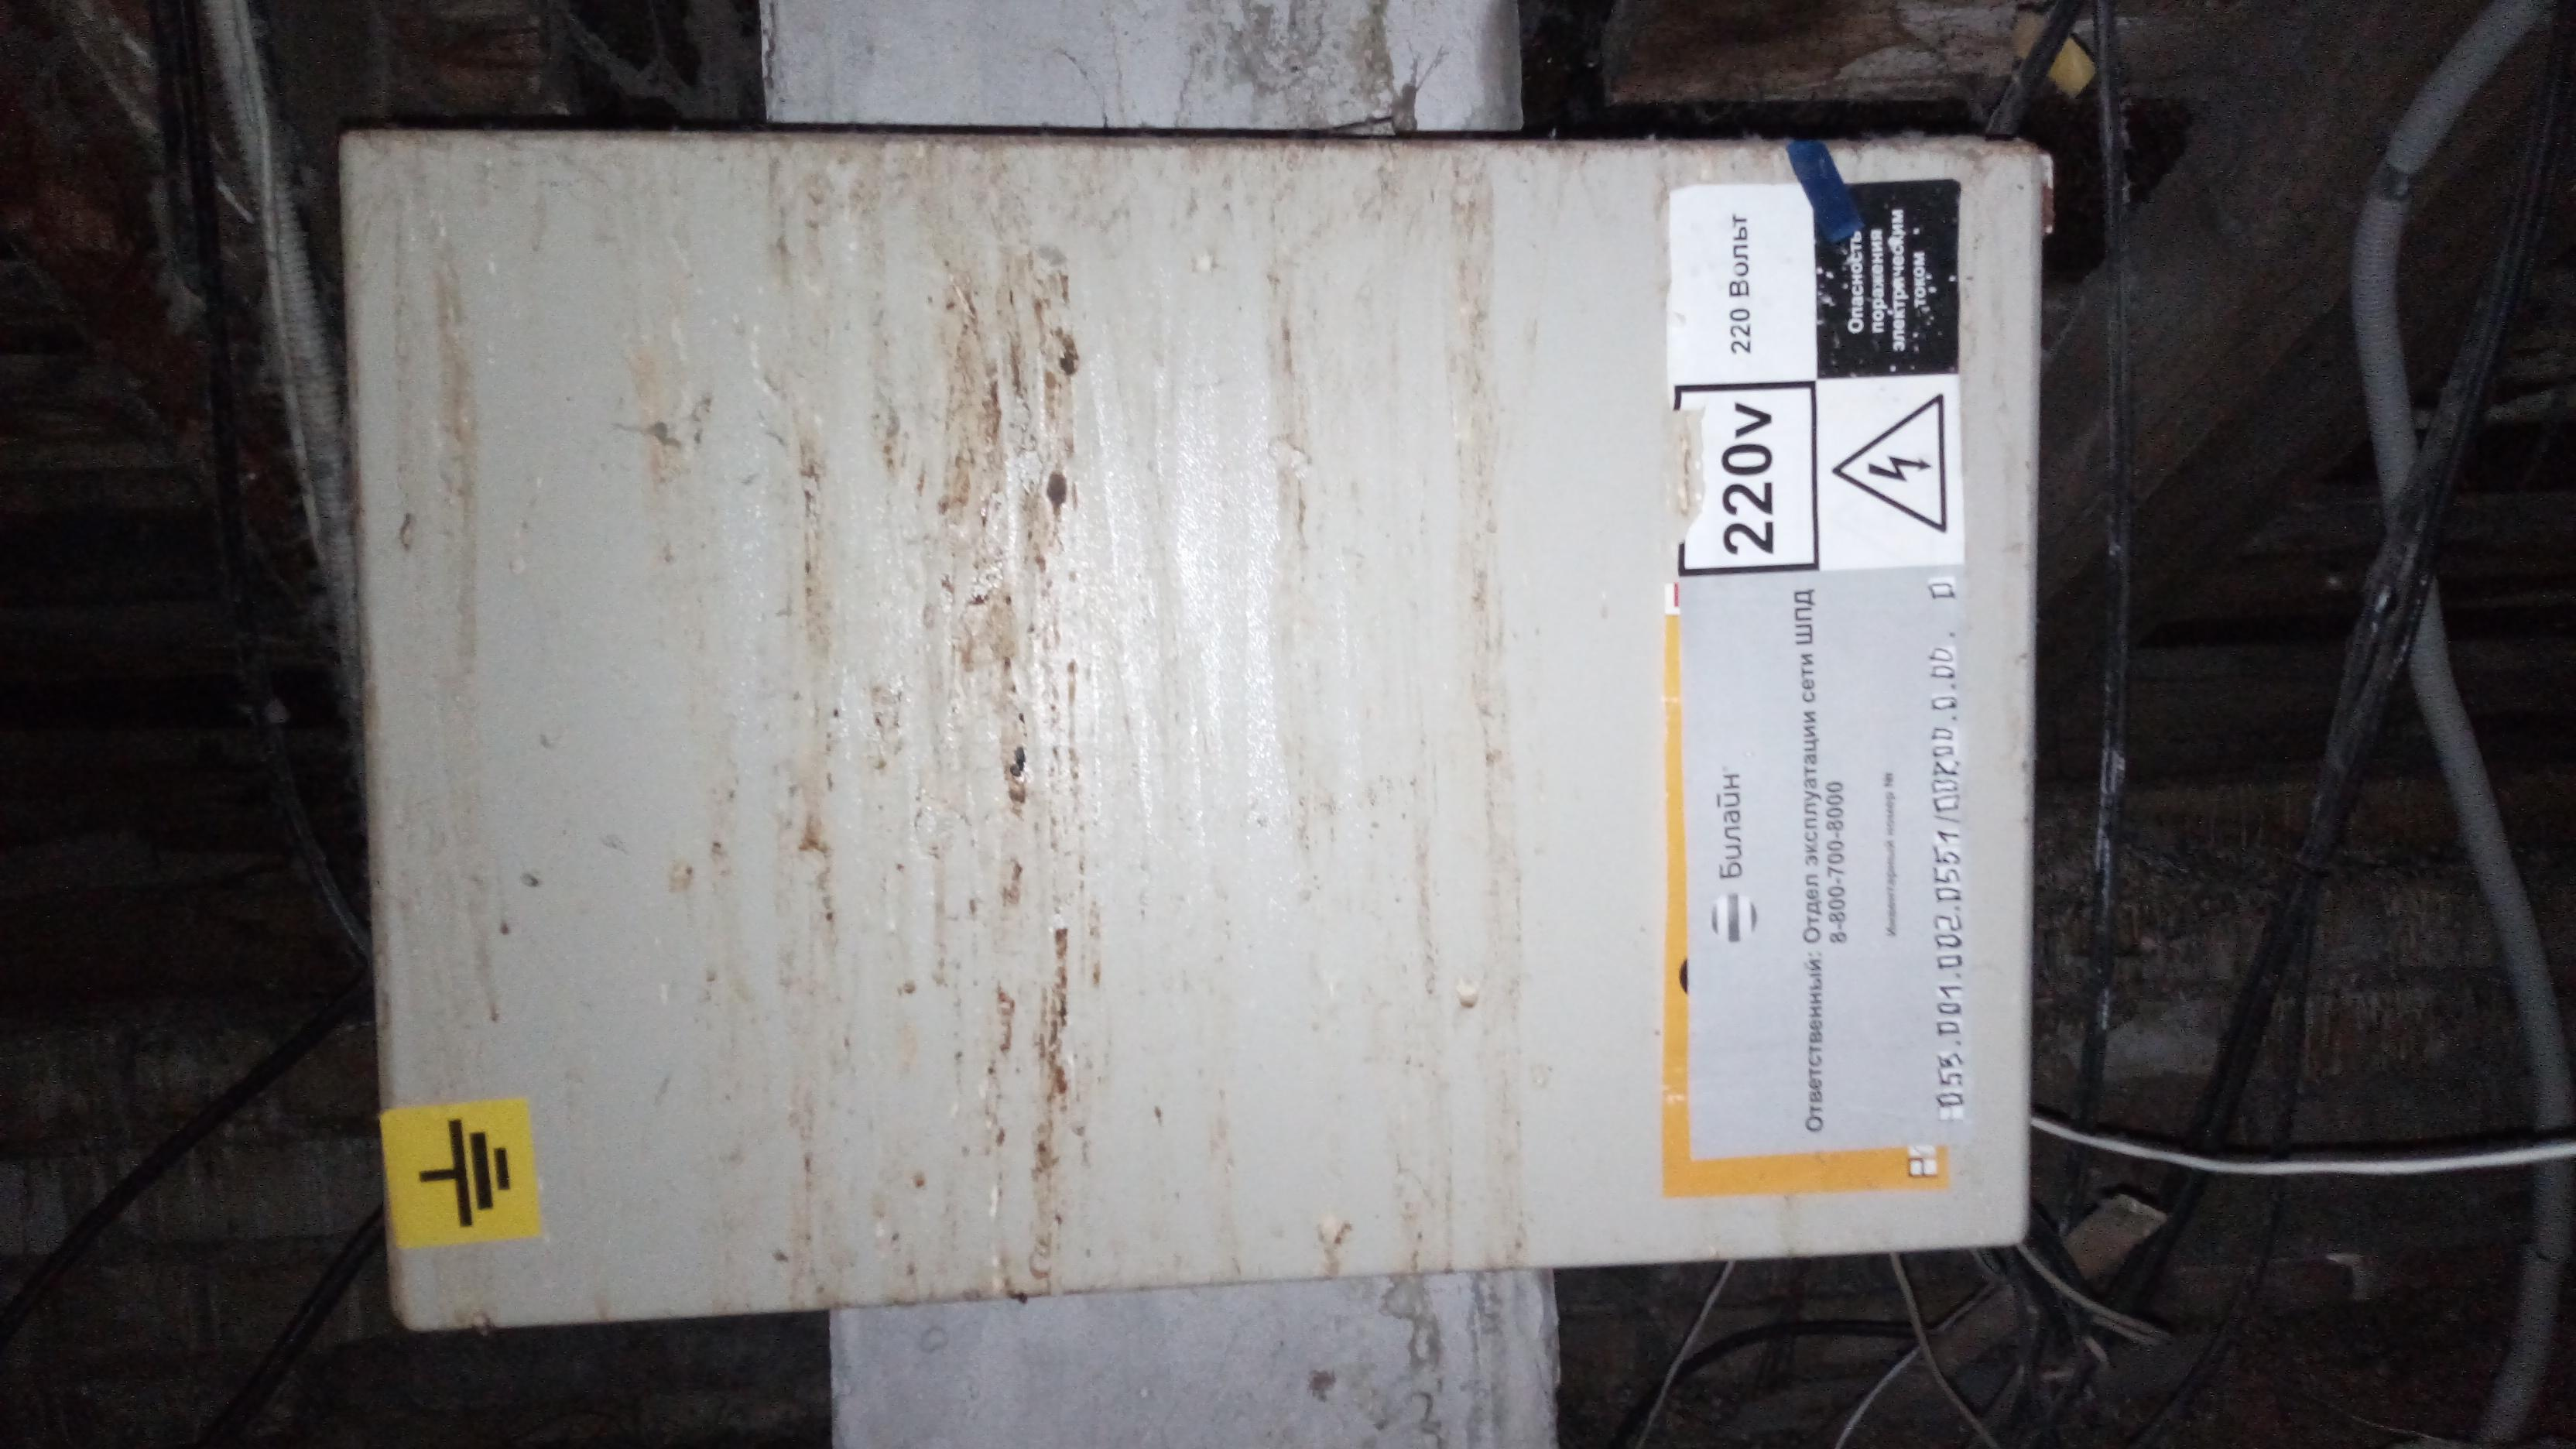sv-5: (313, 103, 2077, 1345)
